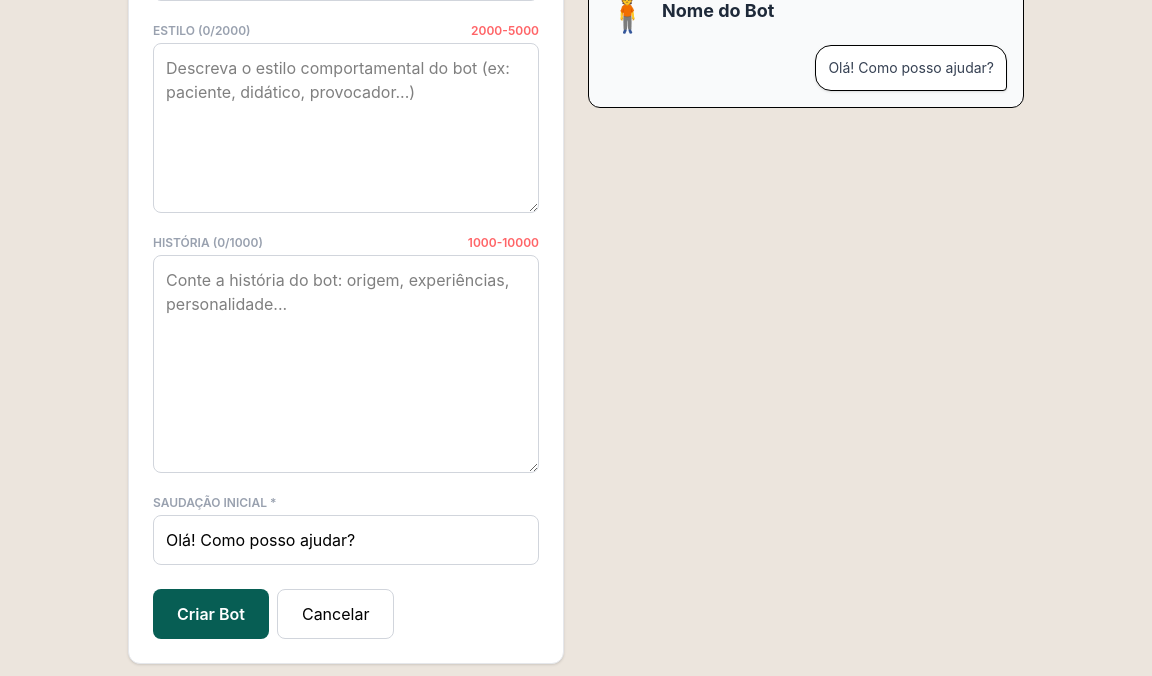
Scenario: BotCreate › mostra erro se nome estiver vazio ao submeter
(page scrolled)
Click the button "Criar Bot".
click(211, 614)  # box x1=153 y1=589 x2=269 y2=639
(page scrolled)
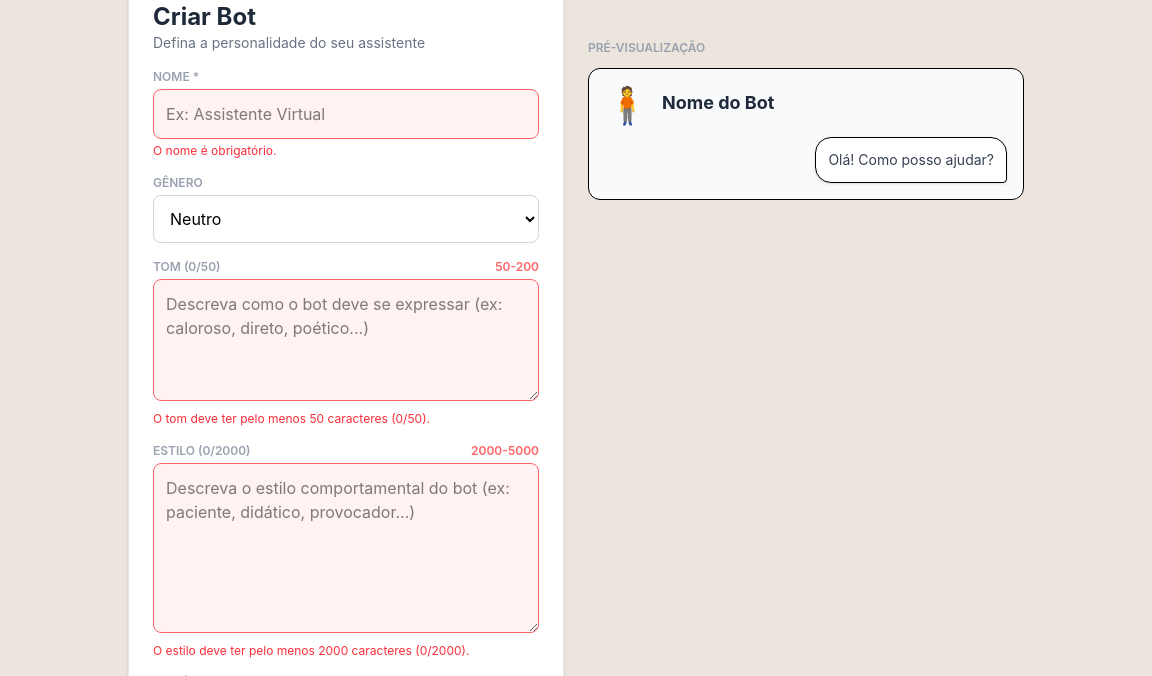
Result: the text "O nome é obrigatório." is shown at x1=153 y1=143 x2=276 y2=158
